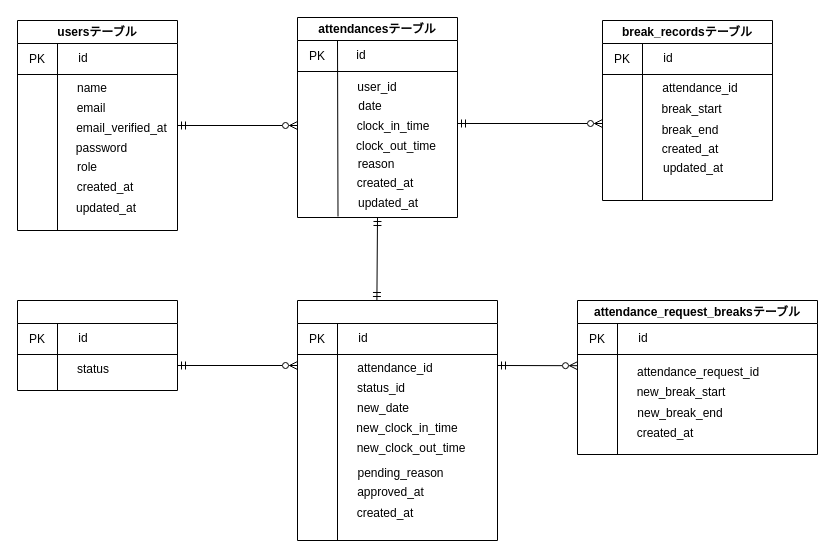
This 836x559 diagram has some shape labels left out. Here are the shapes that lost their labels. From the top down, the box of each, then its label:
(16, 300, 178, 390): statusesテーブル
(296, 300, 498, 540): attedance_requestsテーブル
